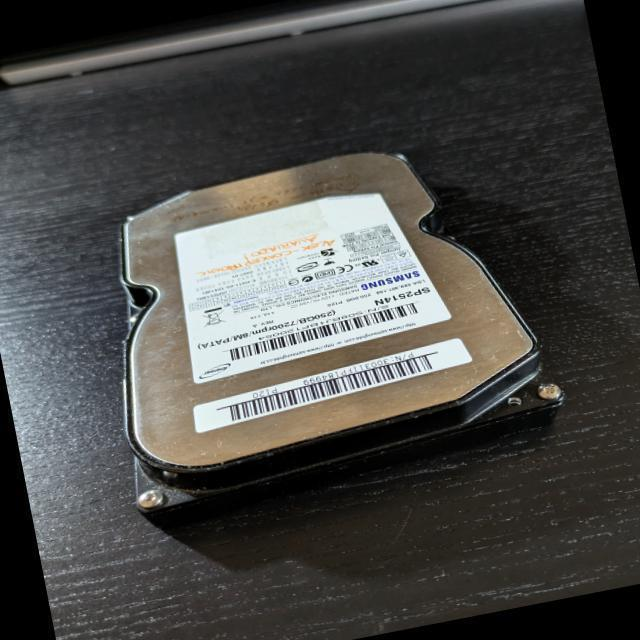DISK: (77, 120, 577, 536)
